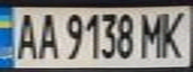1: (81, 10, 100, 60)
3: (100, 10, 121, 60)
8: (115, 10, 139, 60)
9: (60, 10, 84, 61)
A: (9, 9, 39, 61), (33, 9, 60, 61)
K: (157, 8, 190, 60)
M: (136, 9, 166, 58)
